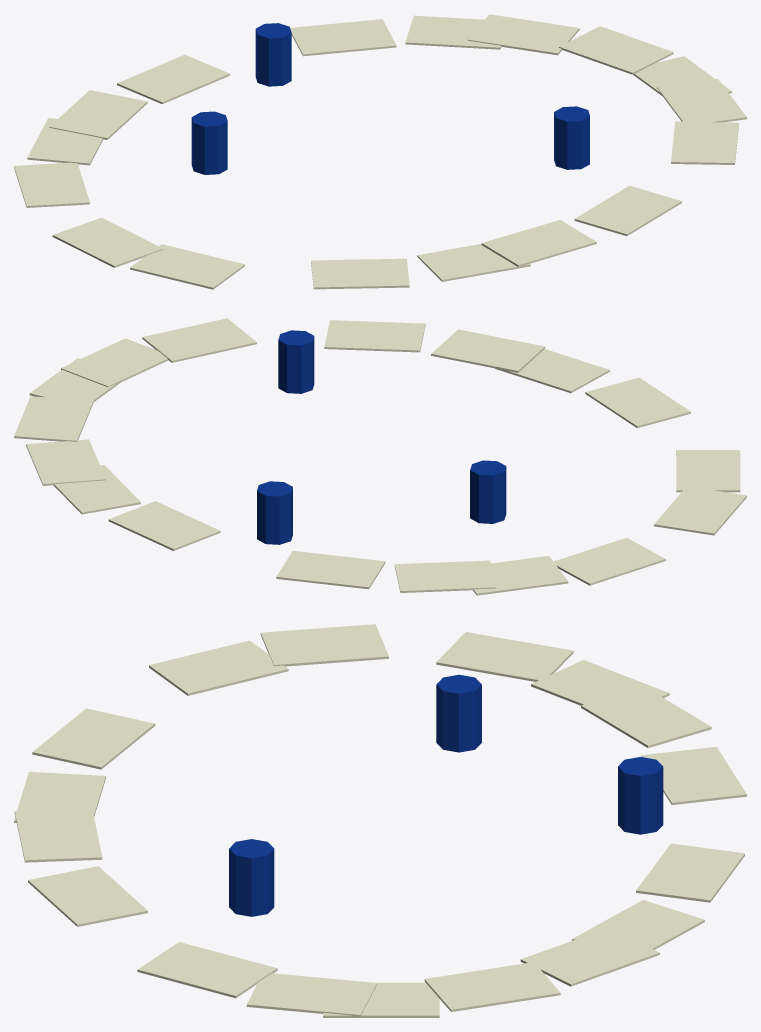
File: SmallLitterPile.fbx
3 views of the same model, one above another, from view 1: azimuth 30°, elevation 25°; view 2: azimuth 150°, elevation 25°; view 3: azimuth 270°, elevation 25° (orthographic). The views are drawn at different scales.
Visible parts, largest first — view 1: SmallLitterPile; view 2: SmallLitterPile; view 3: SmallLitterPile.
Boxes of the visible parts, box(x1,y1,x2,y2) form: SmallLitterPile: box(14, 14, 746, 289); SmallLitterPile: box(14, 318, 746, 595); SmallLitterPile: box(14, 624, 746, 1017).
Bounding box in the file's own units: 143 × 10 × 113.
Materials: 1 (1 with a texture image).
